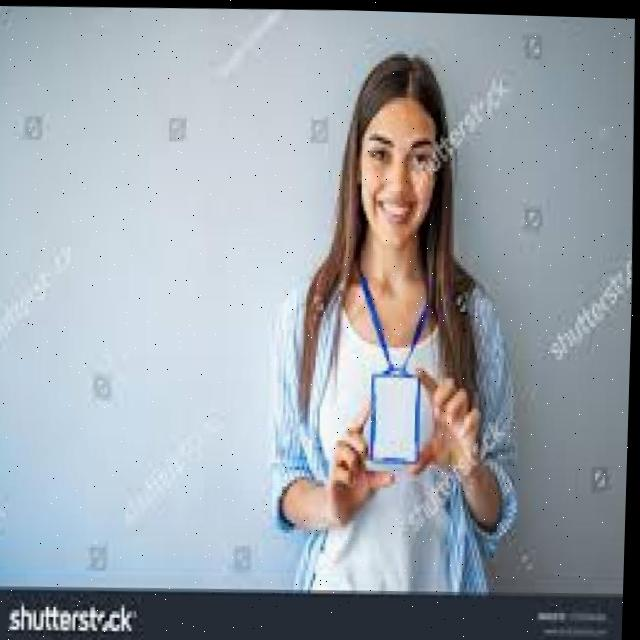id_card: (353, 250, 440, 471)
